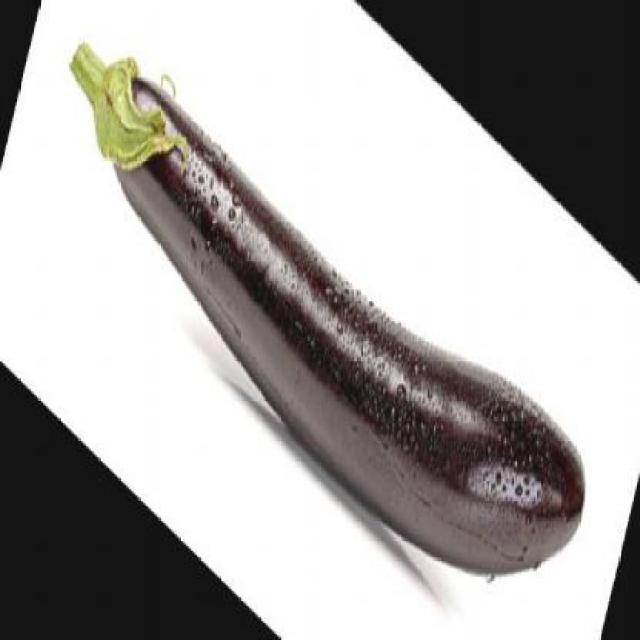eggplant: (37, 0, 596, 638)
